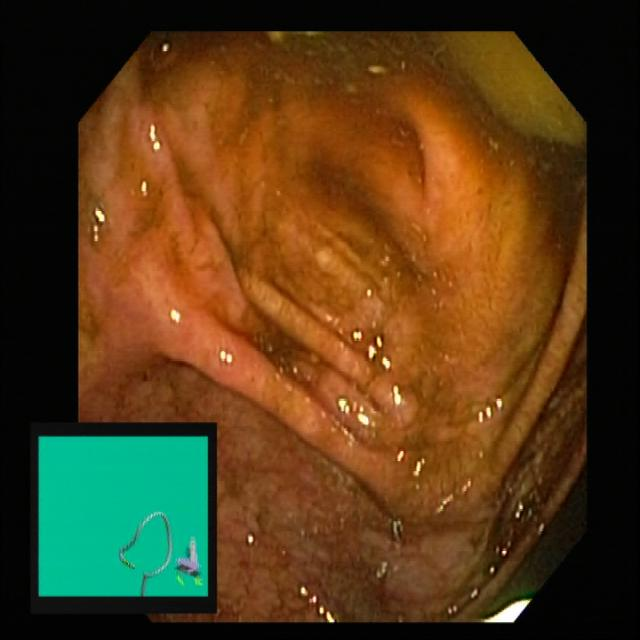normal-cecum: (106, 33, 593, 284), (470, 336, 594, 620), (281, 552, 444, 629), (251, 285, 338, 396)
